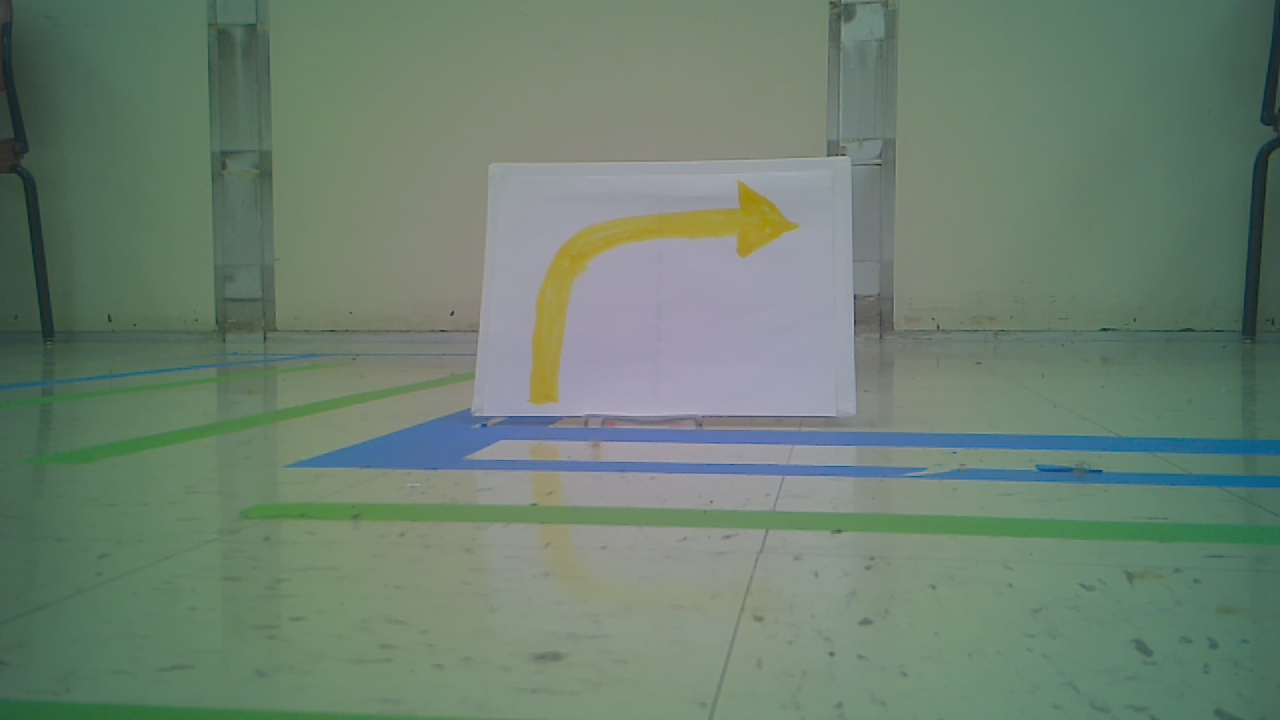greenline: (64, 364, 475, 468), (255, 501, 1271, 542)
right: (524, 180, 801, 411)
